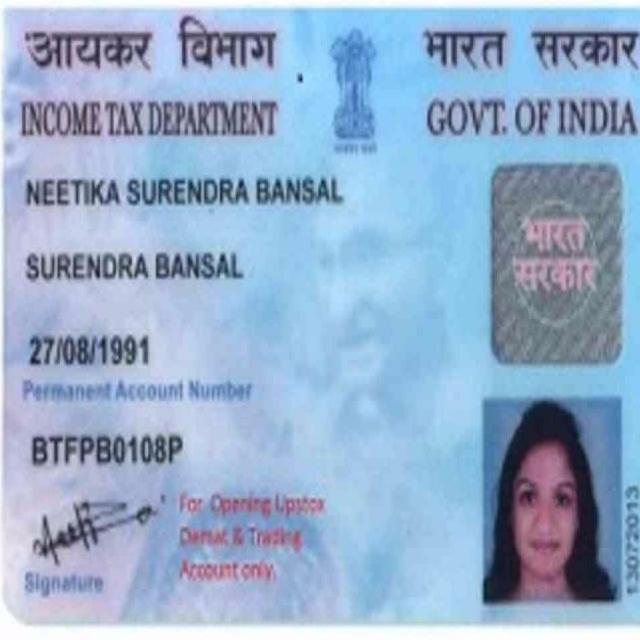pan_card: (2, 10, 640, 627)
